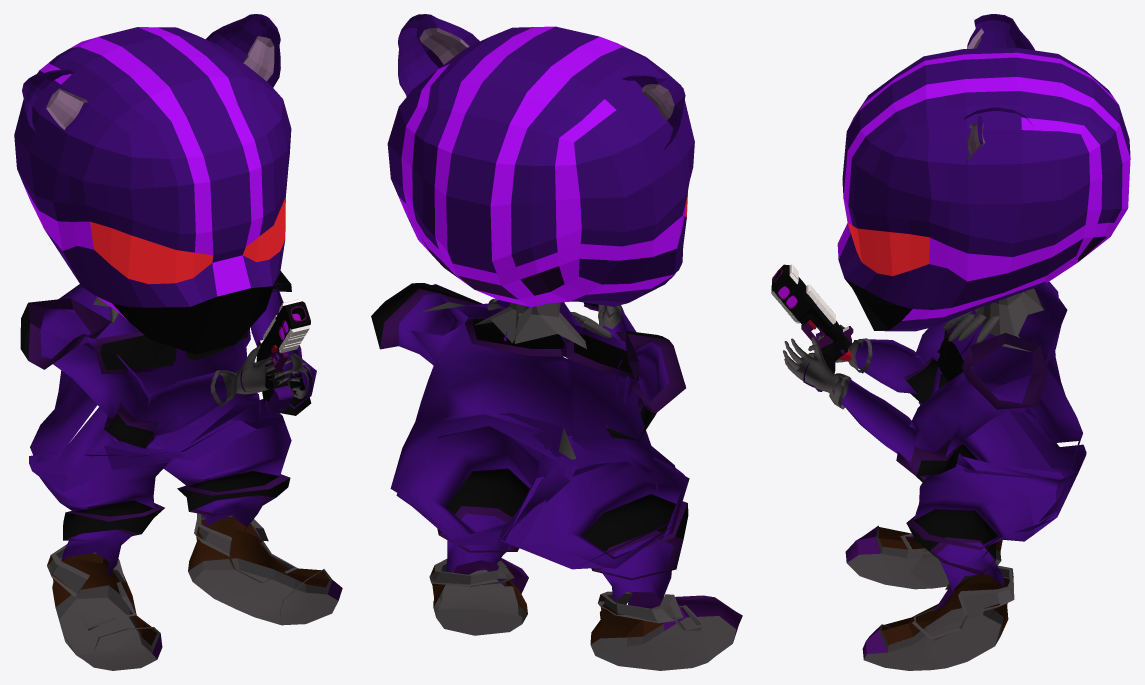
File: panterapistolaIDLE.fbx
3 views of the same model, side by side, from view 1: azimuth 30°, elevation 25°; view 2: azimuth 150°, elevation 25°; view 3: azimuth 270°, elevation 25° (orthographic). The views are drawn at different scales.
Parts seen in each view (by area): view 1: Cube, Cube.131; view 2: Cube; view 3: Cube, Cube.131.
Part boxes in pixels (box(x1,y1,x2,y2)): Cube: box(14, 14, 342, 670); Cube.131: box(256, 299, 310, 413); Cube: box(371, 14, 742, 670); Cube: box(783, 14, 1130, 670); Cube.131: box(771, 264, 853, 391).
Bounding box in the file's own units: 52.64 × 104 × 60.82.
